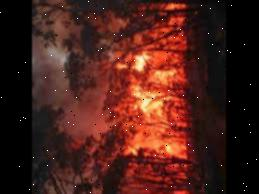fire: (111, 28, 193, 153)
